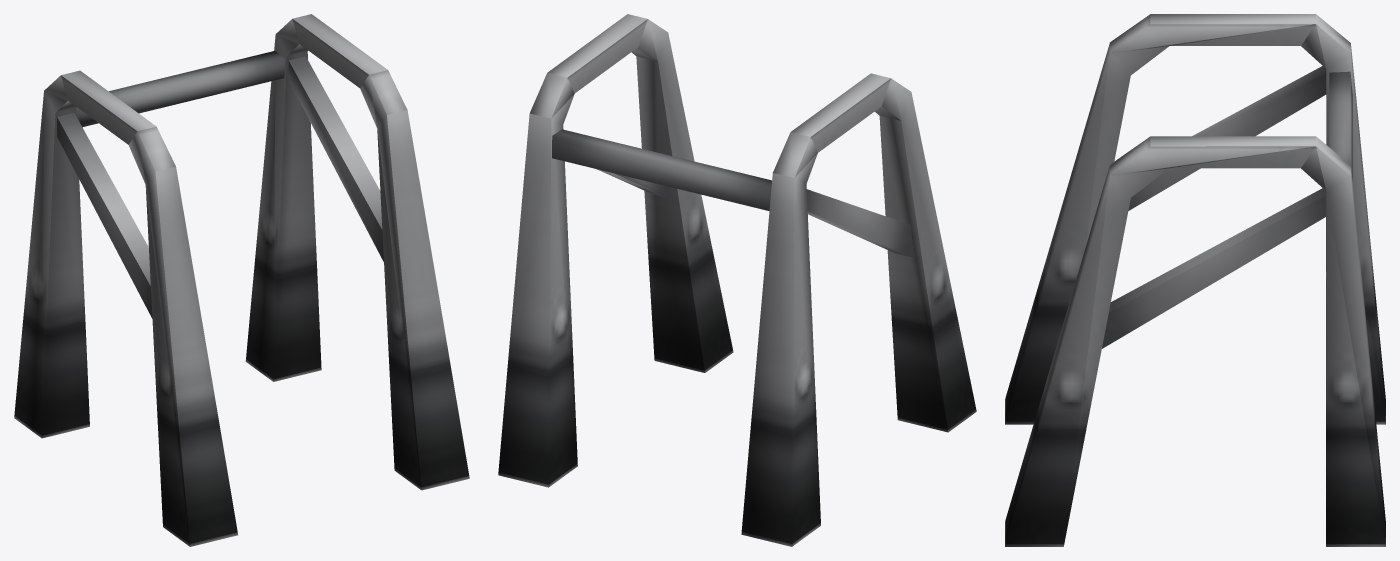
The model's file is acc_13.glb.
3 views of the same model, side by side, from view 1: azimuth 30°, elevation 25°; view 2: azimuth 150°, elevation 25°; view 3: azimuth 270°, elevation 25° (orthographic). The views are drawn at different scales.
Parts seen in each view (by area): view 1: RRollbar; view 2: RRollbar; view 3: RRollbar.
Boxes of the visible parts, x1,y1,x2,y2 form: RRollbar: (14, 14, 469, 546); RRollbar: (498, 14, 976, 546); RRollbar: (1005, 14, 1385, 546).
Bounding box in the file's own units: 0.6 × 0.7444 × 0.6539.
Materials: 1 (1 with a texture image).
